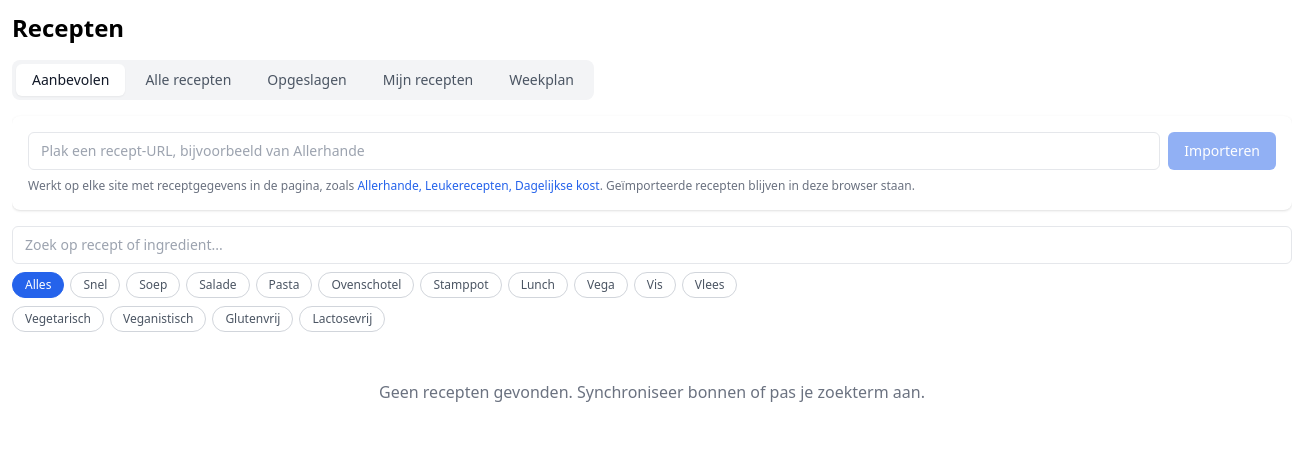
Test: pages/recipes.vue › my recipes tab › shows an empty state when the user has no own recipes
This screenshot has width=1304, height=468.
Step 1. Click the button with class "tab" showing "Mijn recepten" → click(428, 80), box x1=367 y1=64 x2=489 y2=96
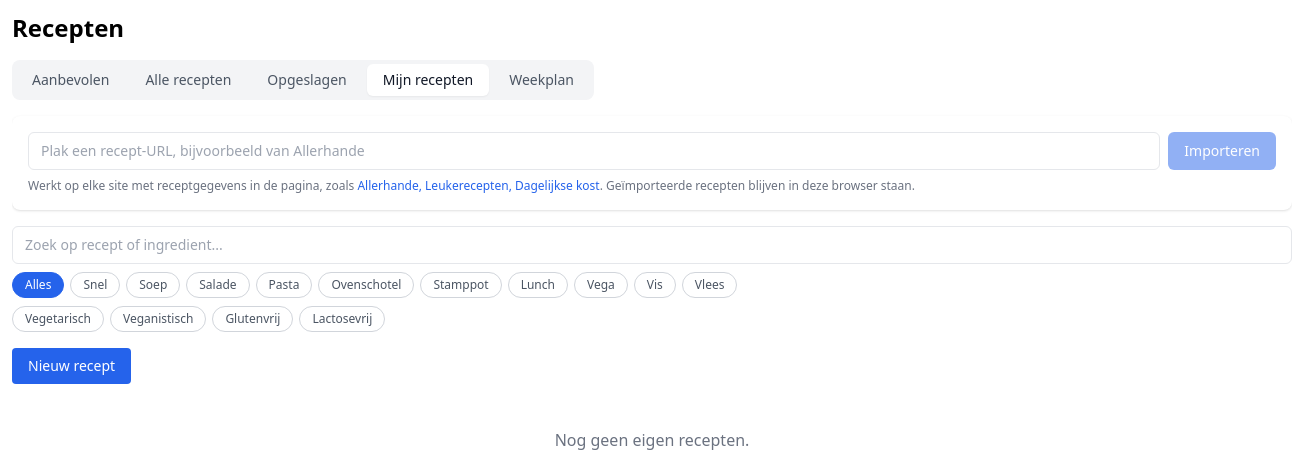
Now the text with class "empty-state" reads "Nog geen eigen recepten.", box x1=555 y1=429 x2=749 y2=451
